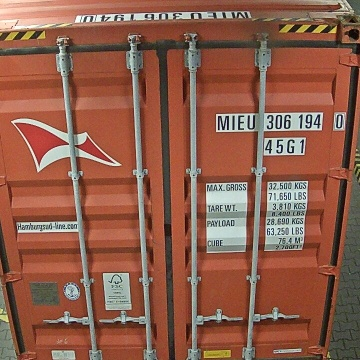serial_id: (216, 113, 344, 130)
